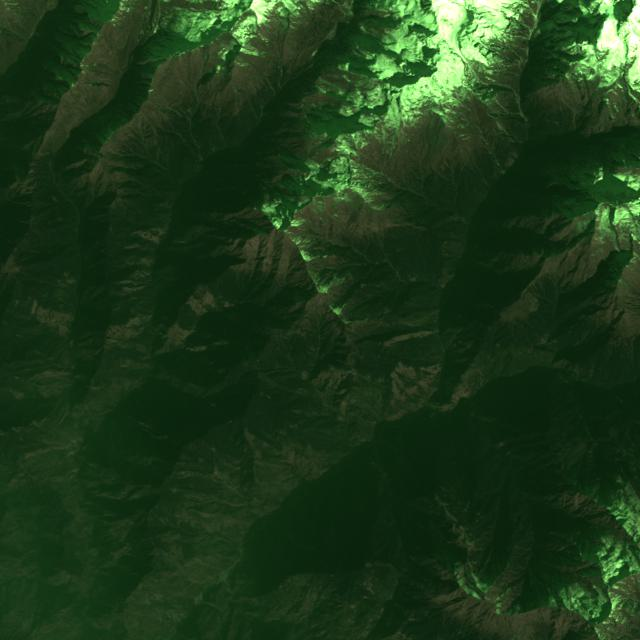landslides: (244, 537, 280, 560), (155, 605, 184, 625), (186, 561, 211, 584), (150, 572, 167, 603), (174, 587, 199, 601), (150, 614, 170, 629), (206, 527, 227, 539), (295, 479, 307, 493), (515, 622, 523, 640), (216, 294, 223, 312), (242, 521, 251, 535)
